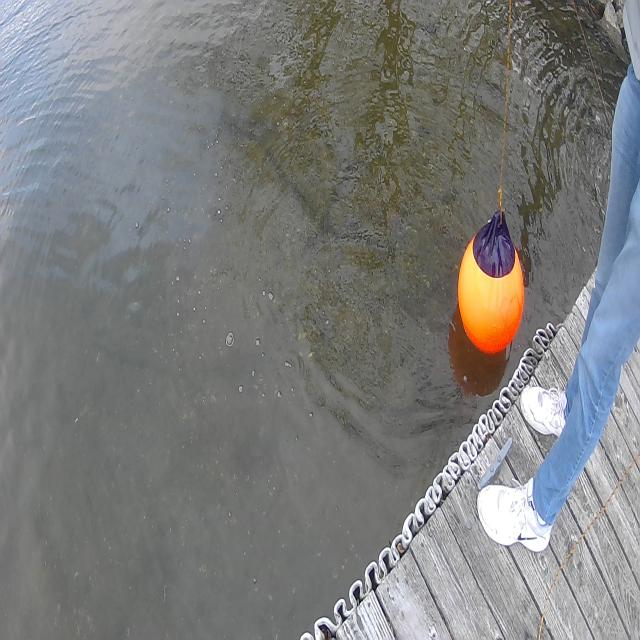Buoy: (454, 199, 526, 362)
